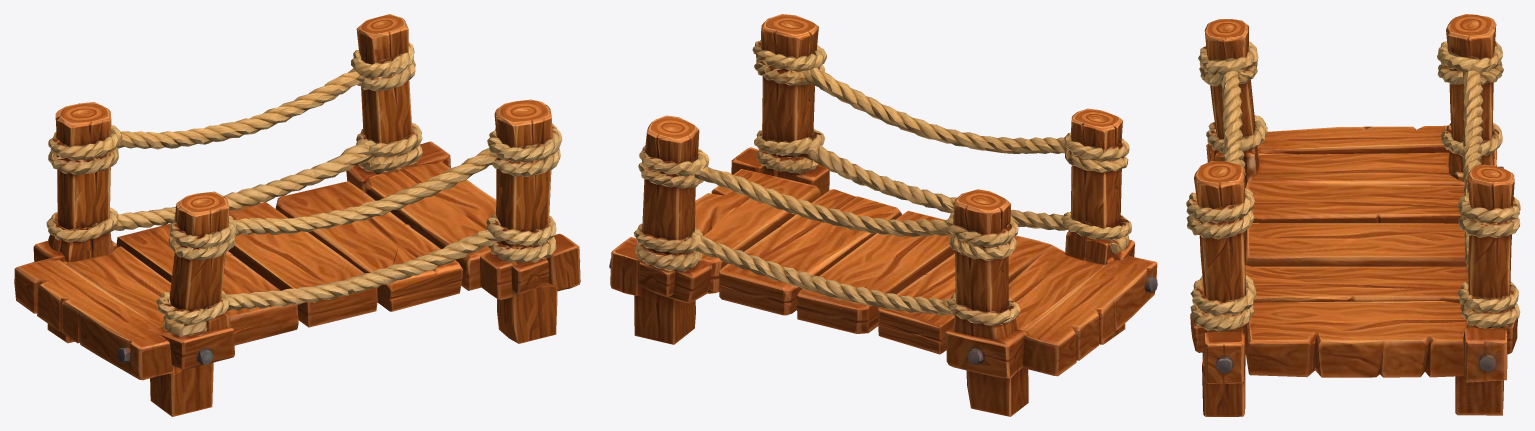
The model's file is rope_bridge.glb.
The picture shows the model from 3 angles, left to right: view 1: azimuth 30°, elevation 25°; view 2: azimuth 150°, elevation 25°; view 3: azimuth 270°, elevation 25°; orthographic projection. The views are drawn at different scales.
Visible parts, largest first — view 1: output_unwrapped; view 2: output_unwrapped; view 3: output_unwrapped.
Boxes of the visible parts, bbox=[...] form: output_unwrapped: bbox=[14, 14, 580, 416]; output_unwrapped: bbox=[609, 14, 1157, 416]; output_unwrapped: bbox=[1186, 14, 1520, 416].
Size of what is drawn, in the model's own units: 2.07 by 1 by 1.3.
Materials: 1 (1 with a texture image).
